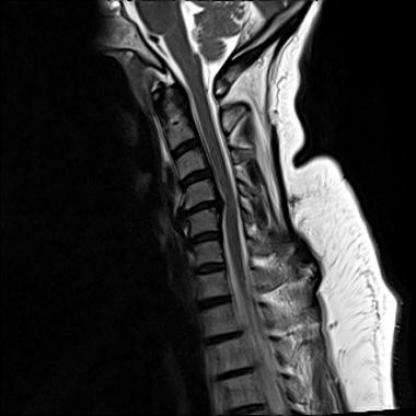Disc Bulgerotation: (178, 170, 213, 189), (180, 201, 220, 216), (168, 142, 203, 157)
Disc Protrusionrotation: (180, 201, 220, 216)
